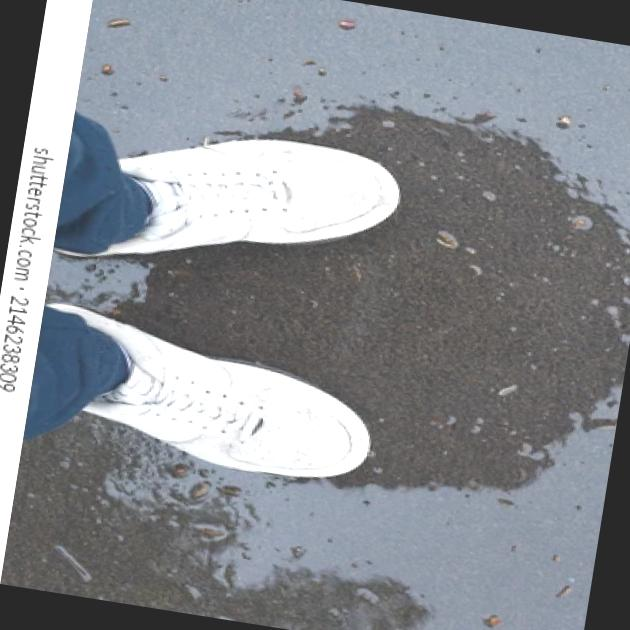shoes: (30, 85, 449, 490)
